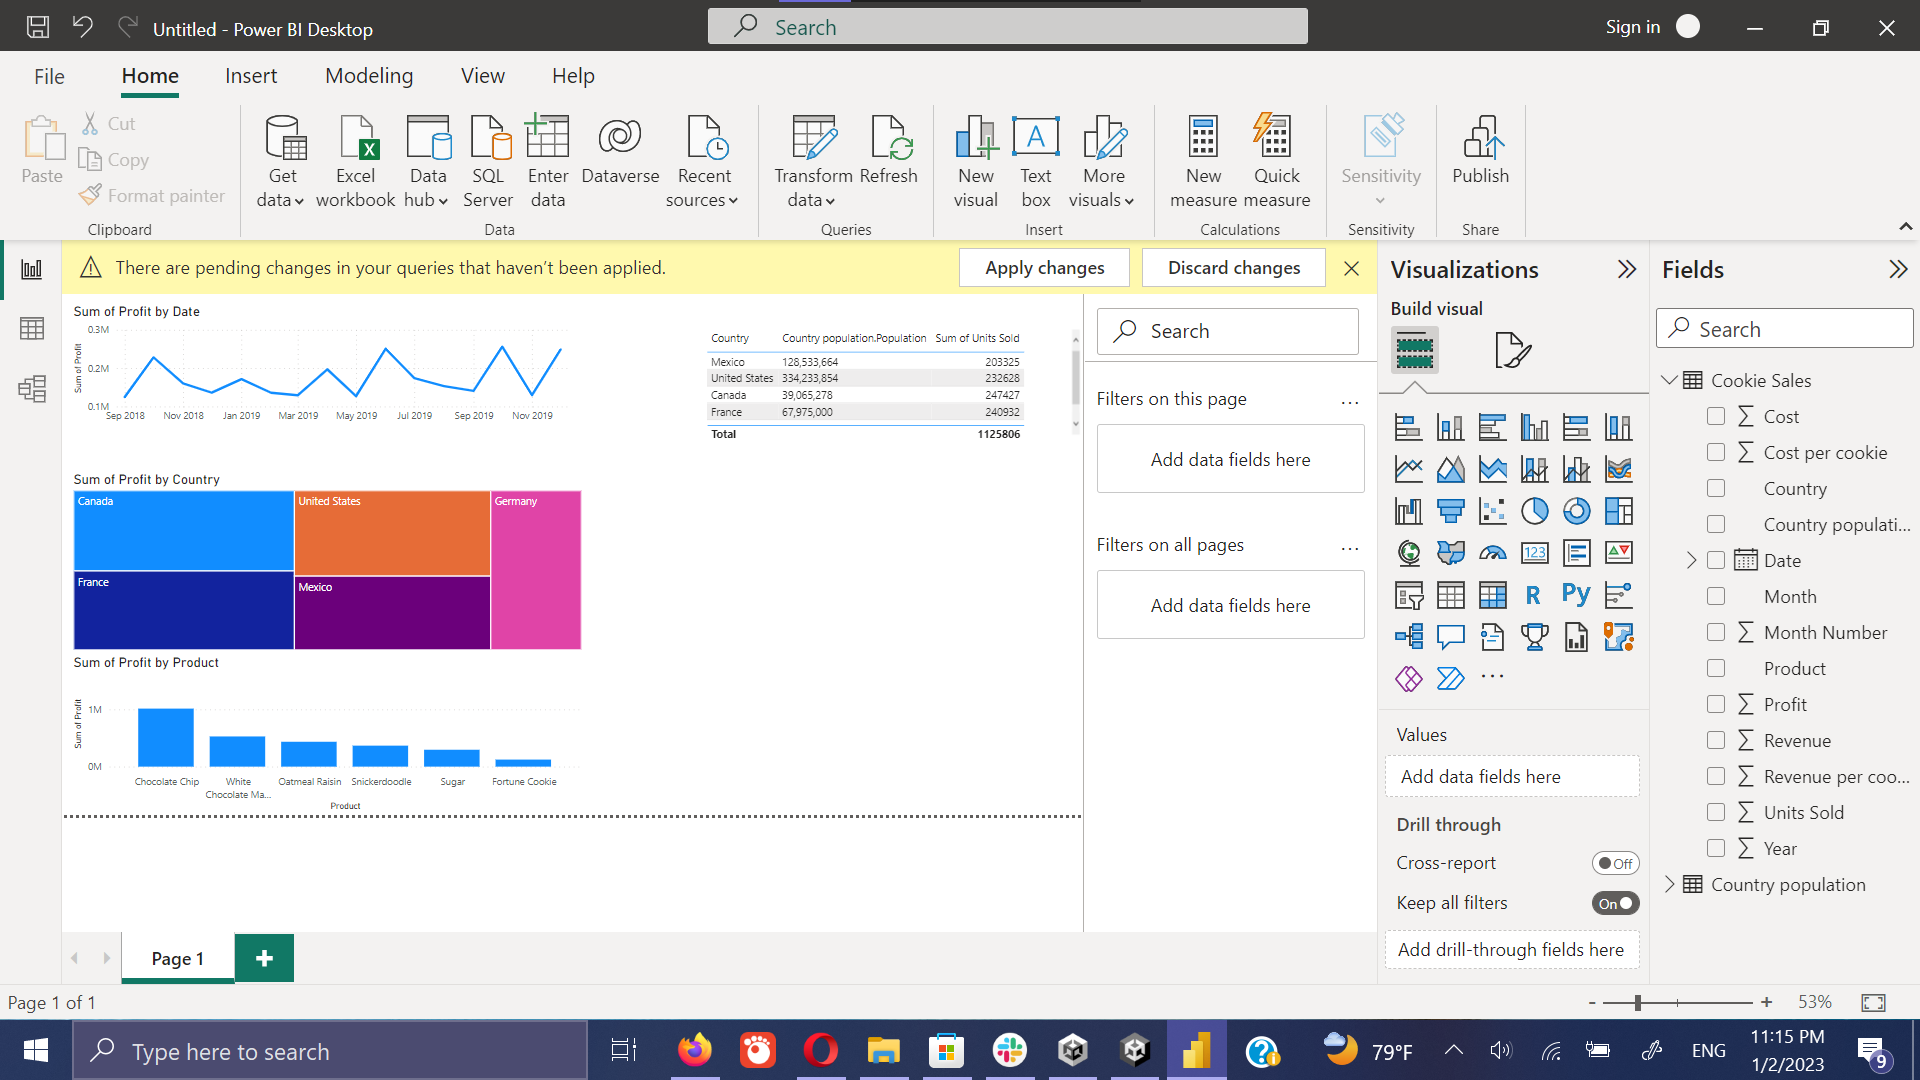

What the dashboard file says about the page in this screenshot:
{"tool":"powerbi","page":{"name":"Page 1","canvas":[1280,720],"ordinal":0},"visuals":[{"type":"textbox","box":[9.7,0,614.8,279.3],"z":0},{"type":"lineChart","fields":{"Category":["Cookie Sales.Date"],"Y":["Sum(Cookie Sales.Profit)"]},"box":[9.4,78.9,646.6,159.8],"z":1},{"type":"map","fields":{"Category":["Cookie Sales.Country"],"Size":["Sum(Cookie Sales.Profit)"]},"box":[9.4,289.5,646.6,229.3],"z":2},{"type":"tableEx","fields":{"Values":["Cookie Sales.Country","Cookie Sales.Country population.Population","Sum(Cookie Sales.Units Sold)"]},"box":[946.4,312.2,333.6,151.3],"z":3},{"type":"clusteredColumnChart","fields":{"Category":["Cookie Sales.Product"],"Y":["Sum(Cookie Sales.Profit)"]},"box":[9.4,518.8,646.6,201.1],"z":4},{"type":"pieChart","fields":{"Category":["Cookie Sales.Month"],"Y":["Sum(Cookie Sales.Profit)"]},"box":[624.5,428.6,415,290.9],"z":6},{"type":"ribbonChart","fields":{"Y":["Sum(Cookie Sales.Revenue)"],"Category":["Cookie Sales.Country"],"Series":["Cookie Sales.Product"]},"box":[657.5,40.7,298.7,298.7],"z":7},{"type":"card","fields":{"Values":["Sum(Cookie Sales.Units Sold)"]},"box":[947.4,91.4,324.9,198.4],"z":8},{"type":"slicer","fields":{"Values":["Cookie Sales.Country"]},"box":[1038.8,519.4,241.2,200.4],"z":9}]}

Visuals, with their boxes on the page's 1280x720 design canvas (x1, y1, x2, y2). These are canvas units, not pixel positions in the 1920x1080 screenshot, which may show the page scaled, cropped or inside an application window:
textbox: [left=10, top=0, right=624, bottom=279]
lineChart - Cookie Sales.Date x Sum(Cookie Sales.Profit): [left=9, top=79, right=656, bottom=239]
map - Cookie Sales.Country x Sum(Cookie Sales.Profit): [left=9, top=290, right=656, bottom=519]
tableEx - Cookie Sales.Country x Cookie Sales.Country population.Population: [left=946, top=312, right=1280, bottom=464]
clusteredColumnChart - Cookie Sales.Product x Sum(Cookie Sales.Profit): [left=9, top=519, right=656, bottom=720]
pieChart - Cookie Sales.Month x Sum(Cookie Sales.Profit): [left=624, top=429, right=1040, bottom=720]
ribbonChart - Sum(Cookie Sales.Revenue) x Cookie Sales.Country: [left=658, top=41, right=956, bottom=339]
card - Sum(Cookie Sales.Units Sold): [left=947, top=91, right=1272, bottom=290]
slicer - Cookie Sales.Country: [left=1039, top=519, right=1280, bottom=720]
